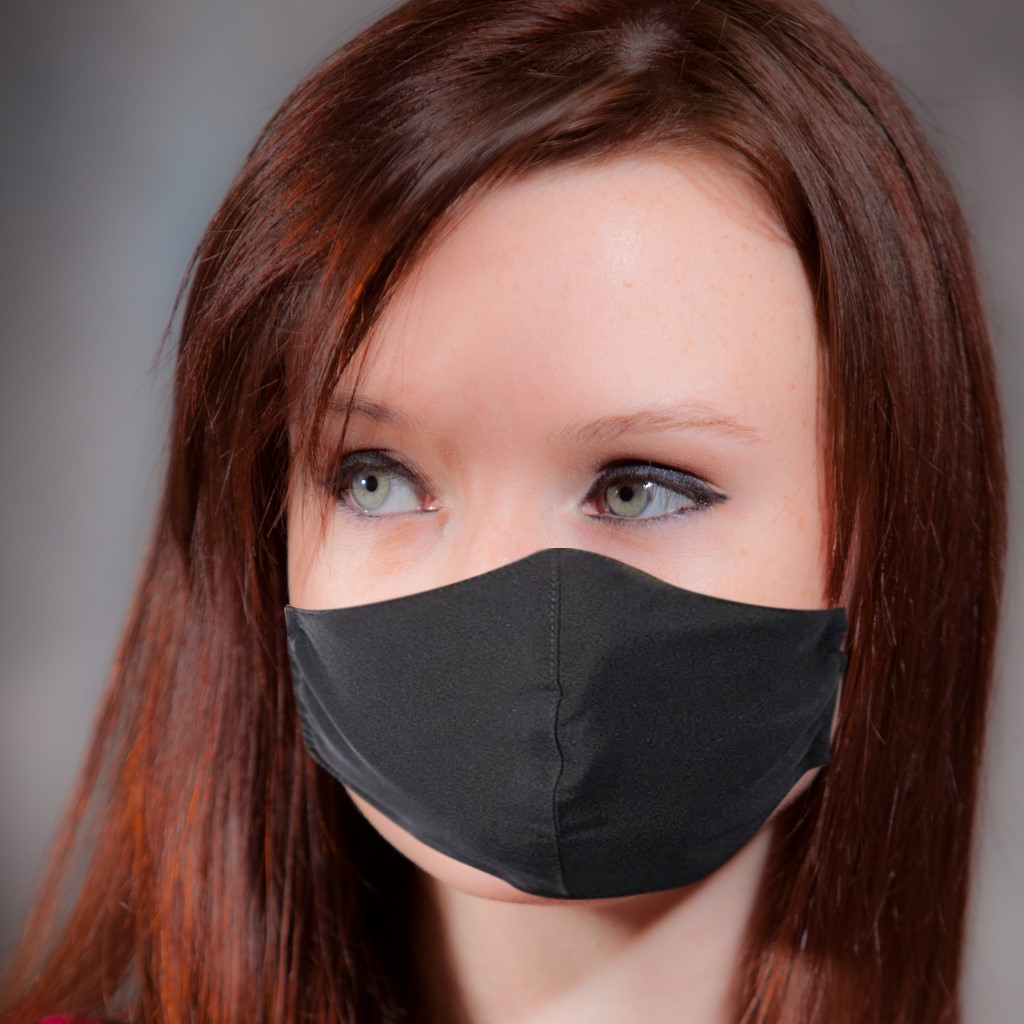con_mascara: (258, 60, 886, 914)
